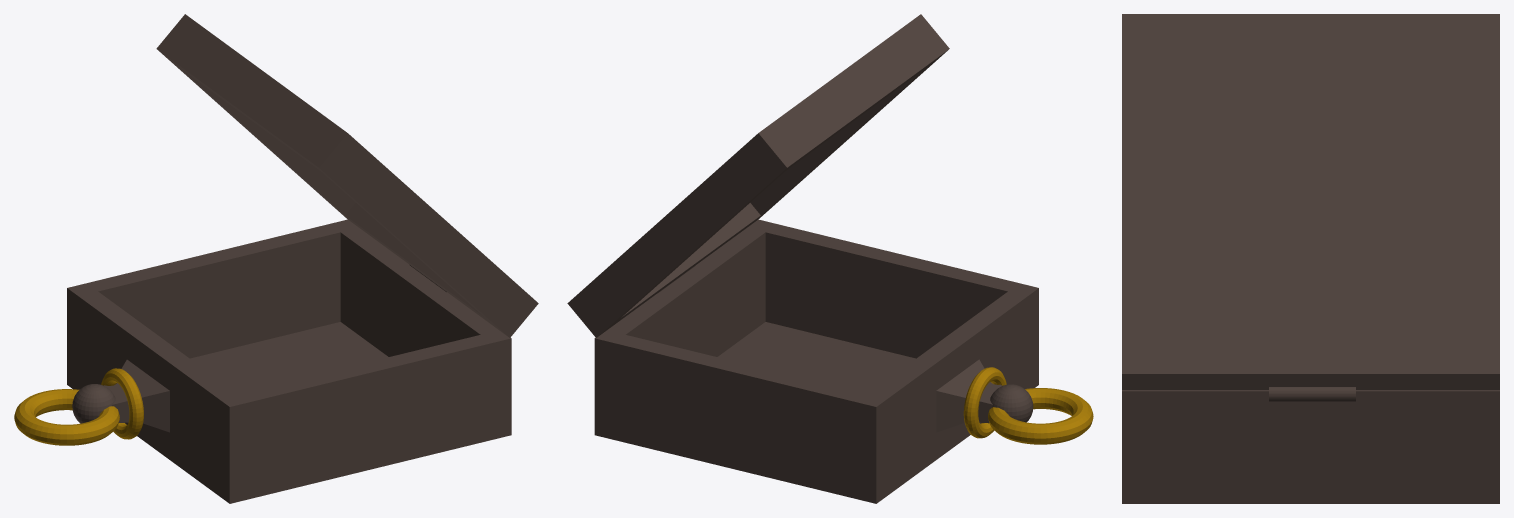
File: caixa navegaçao.fbx
3 renders of one model, left to right at view 1: azimuth 30°, elevation 25°; view 2: azimuth 150°, elevation 25°; view 3: azimuth 270°, elevation 25°, orthographic. The views are drawn at different scales.
Parts seen in each view (by area): view 1: Torus.003; view 2: Torus.003; view 3: Torus.003.
Boxes of the visible parts, x1,y1,x2,y2 form: Torus.003: [14, 14, 538, 503]; Torus.003: [567, 14, 1093, 503]; Torus.003: [1122, 14, 1499, 503].
Bounding box in the file's own units: 498 × 372 × 321.
